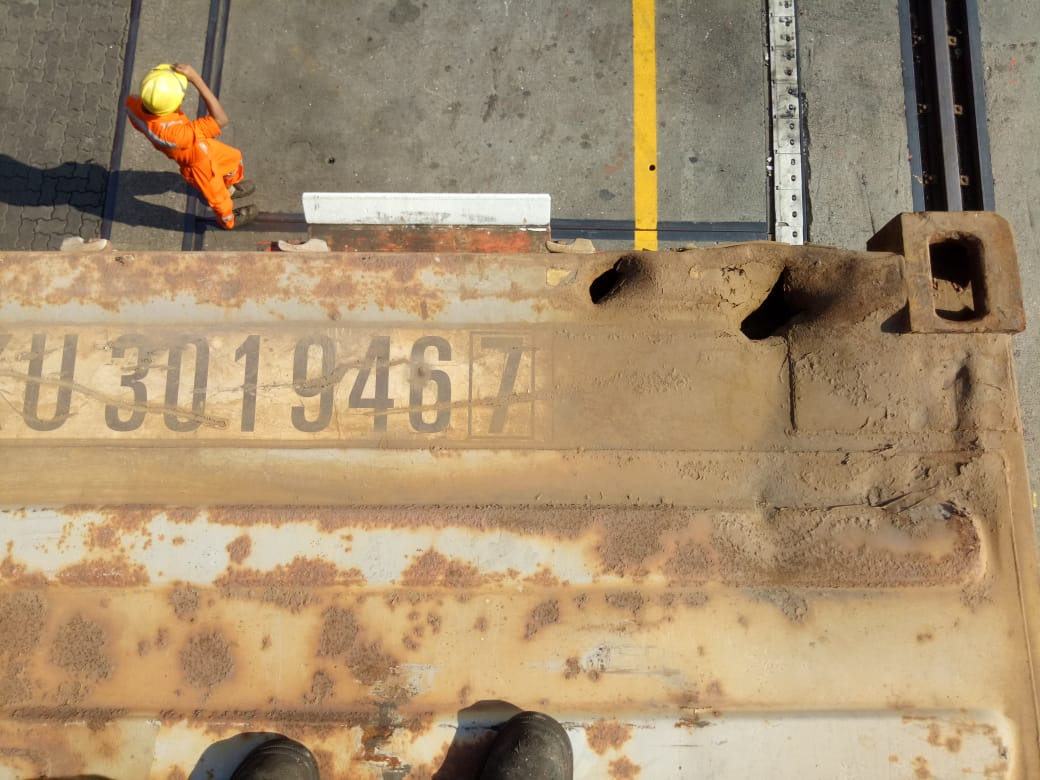hole: (707, 254, 885, 352), (569, 263, 662, 321)
